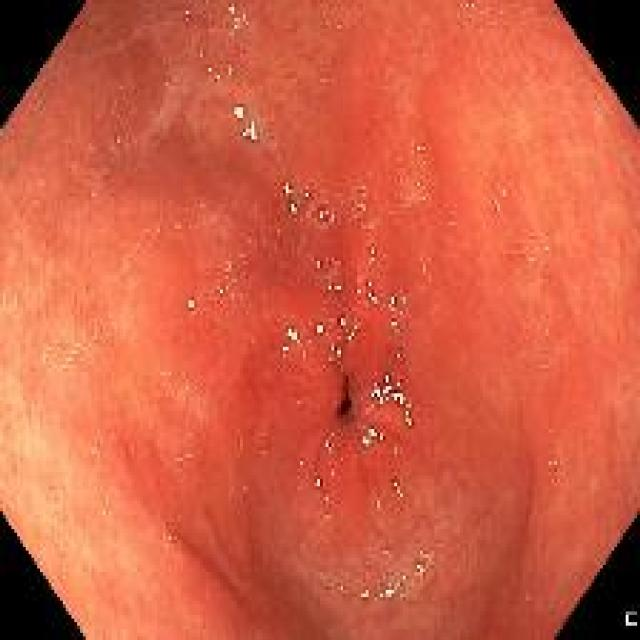bubbles: (315, 2, 374, 34), (394, 165, 431, 208), (302, 250, 334, 280), (348, 178, 368, 226), (450, 2, 494, 23), (312, 197, 336, 233), (58, 338, 85, 369), (158, 525, 180, 549), (411, 132, 429, 160), (544, 451, 563, 477), (440, 210, 457, 239), (174, 444, 192, 468), (231, 433, 246, 455), (157, 367, 174, 381), (82, 189, 95, 205), (89, 442, 101, 458), (92, 329, 100, 346), (110, 430, 120, 443), (167, 385, 176, 399), (523, 590, 533, 602), (107, 103, 116, 116), (183, 382, 192, 394)
contrast: (339, 398, 352, 415)
specularity: (369, 372, 415, 433), (325, 327, 360, 372), (231, 99, 262, 149), (195, 49, 239, 84), (509, 242, 561, 267), (386, 292, 412, 338), (211, 259, 238, 299), (338, 580, 380, 605), (382, 572, 411, 604), (282, 176, 301, 223), (486, 179, 513, 211), (227, 5, 249, 43), (280, 319, 299, 363), (356, 273, 379, 307), (410, 546, 436, 576), (360, 423, 386, 451), (386, 475, 411, 501), (316, 433, 340, 460), (318, 495, 336, 527), (181, 289, 201, 315), (372, 492, 388, 523), (305, 473, 323, 498), (309, 316, 325, 343), (325, 461, 343, 482), (362, 240, 381, 259), (338, 308, 349, 333)
